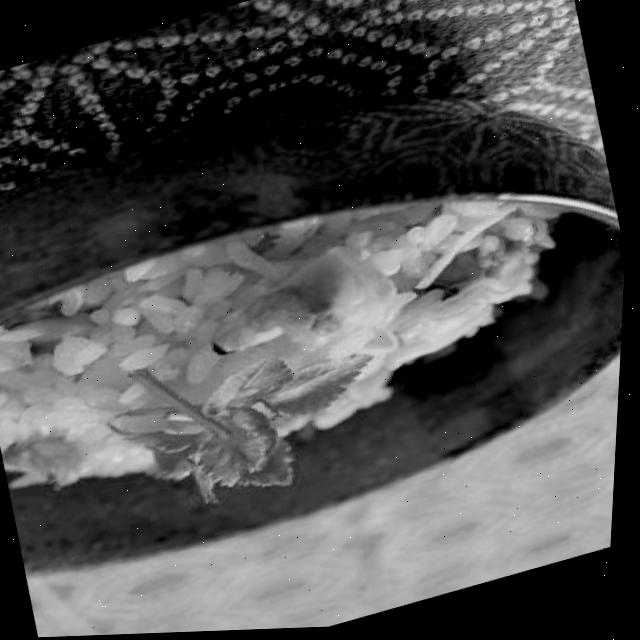米饭主食: (0, 154, 606, 555)
